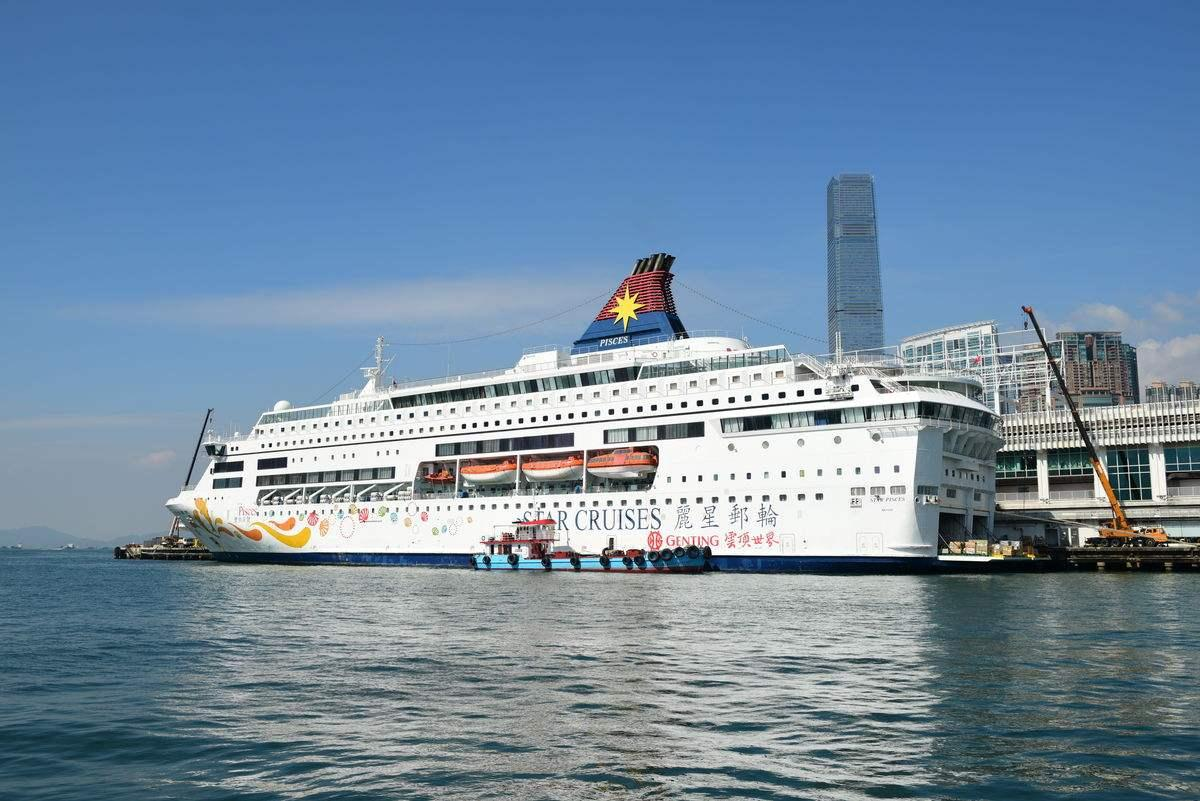otherboat: (471, 510, 724, 578)
youlun: (141, 258, 995, 569)
